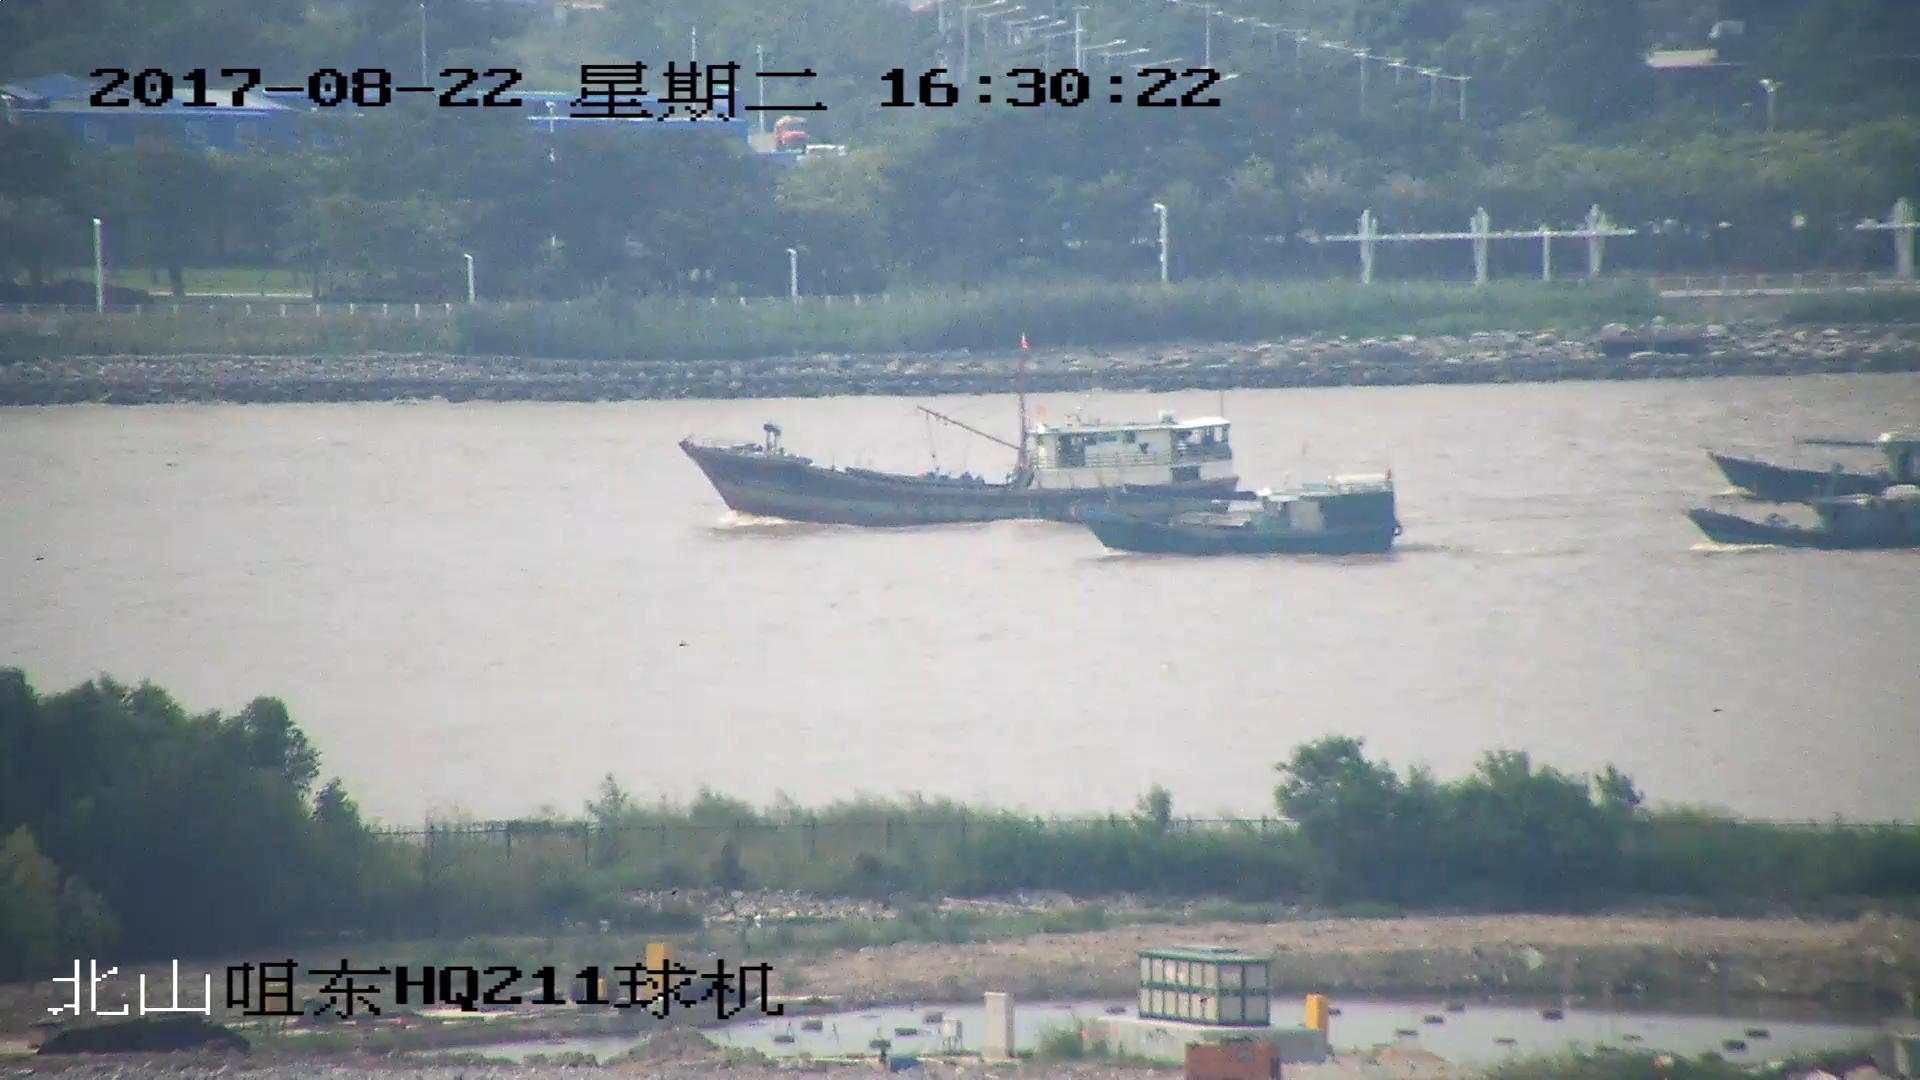fishing boat: (684, 341, 1233, 524), (1076, 476, 1402, 561), (1708, 424, 1920, 505), (1691, 488, 1920, 552)
